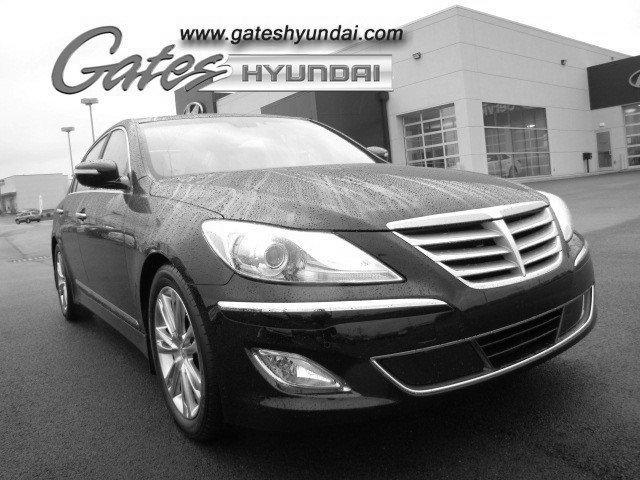car: (51, 115, 596, 429)
